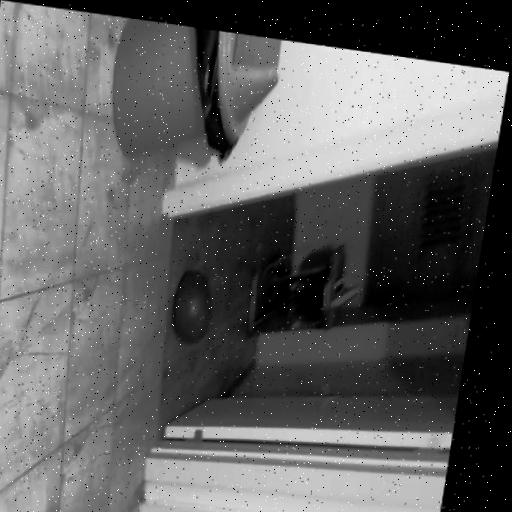balloon: (171, 252, 233, 354)
